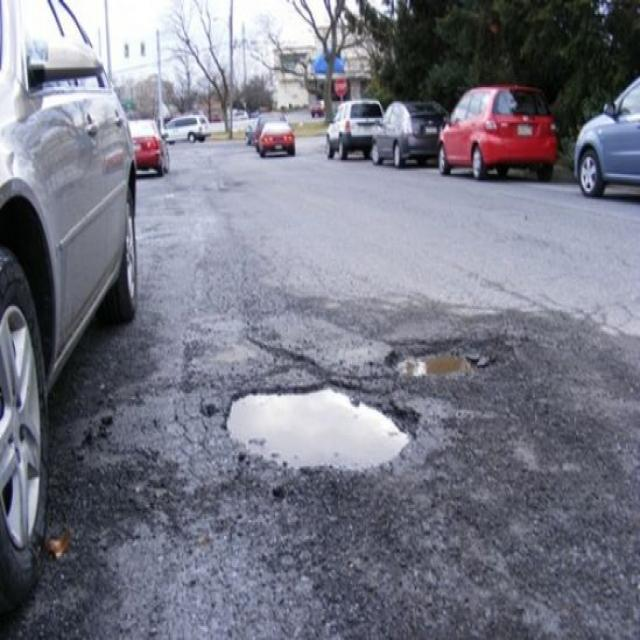pothole: (216, 378, 418, 478), (384, 334, 494, 382)
